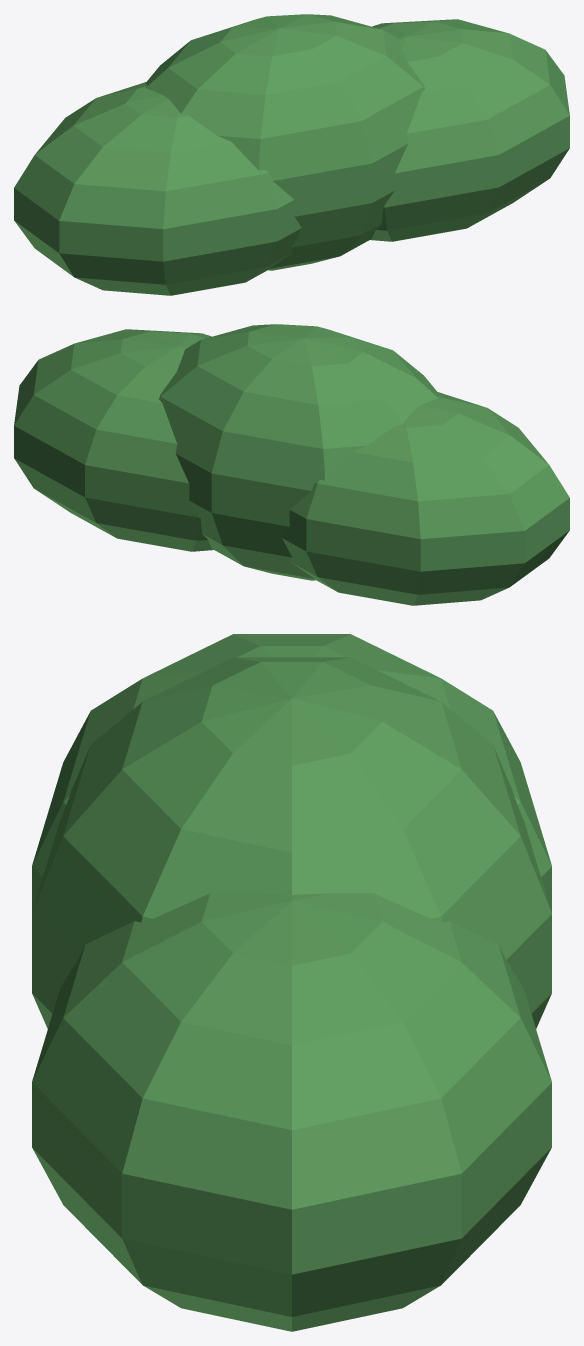
File: Bush_1.fbx
3 renders of one model, top to bottom at view 1: azimuth 30°, elevation 25°; view 2: azimuth 150°, elevation 25°; view 3: azimuth 270°, elevation 25°, orthographic. The views are drawn at different scales.
Parts seen in each view (by area): view 1: pSphere1, Bush_1, pSphere3; view 2: pSphere1, Bush_1, pSphere3; view 3: pSphere3, Bush_1, pSphere1.
Boxes of the visible parts, left/top/right/bottom form: pSphere1: left=14, top=82, right=301, bottom=295; Bush_1: left=145, top=14, right=424, bottom=270; pSphere3: left=370, top=19, right=569, bottom=241; pSphere1: left=282, top=392, right=569, bottom=605; Bush_1: left=159, top=324, right=438, bottom=580; pSphere3: left=14, top=329, right=213, bottom=551; pSphere3: left=32, top=893, right=551, bottom=1331; Bush_1: left=32, top=657, right=551, bottom=1028; pSphere1: left=32, top=634, right=551, bottom=912.
Size of the model in its own units: 4.51 by 1.86 by 1.93.
